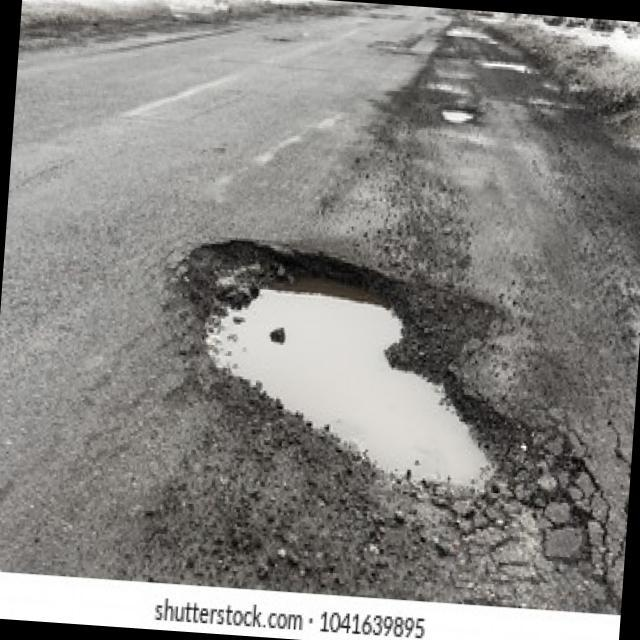Pothole: (173, 234, 530, 516), (438, 104, 476, 126)
